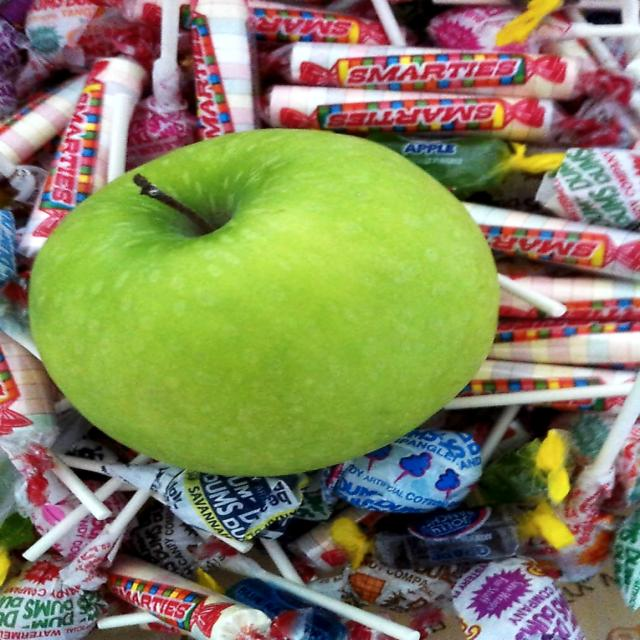Healty Apple: (27, 127, 500, 478)
